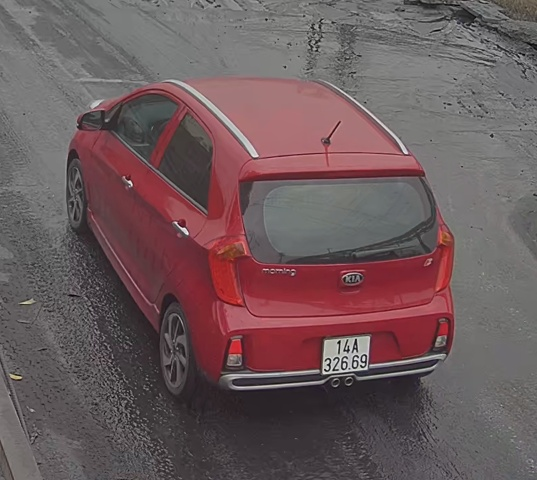vehicle plate: (315, 331, 372, 376)
